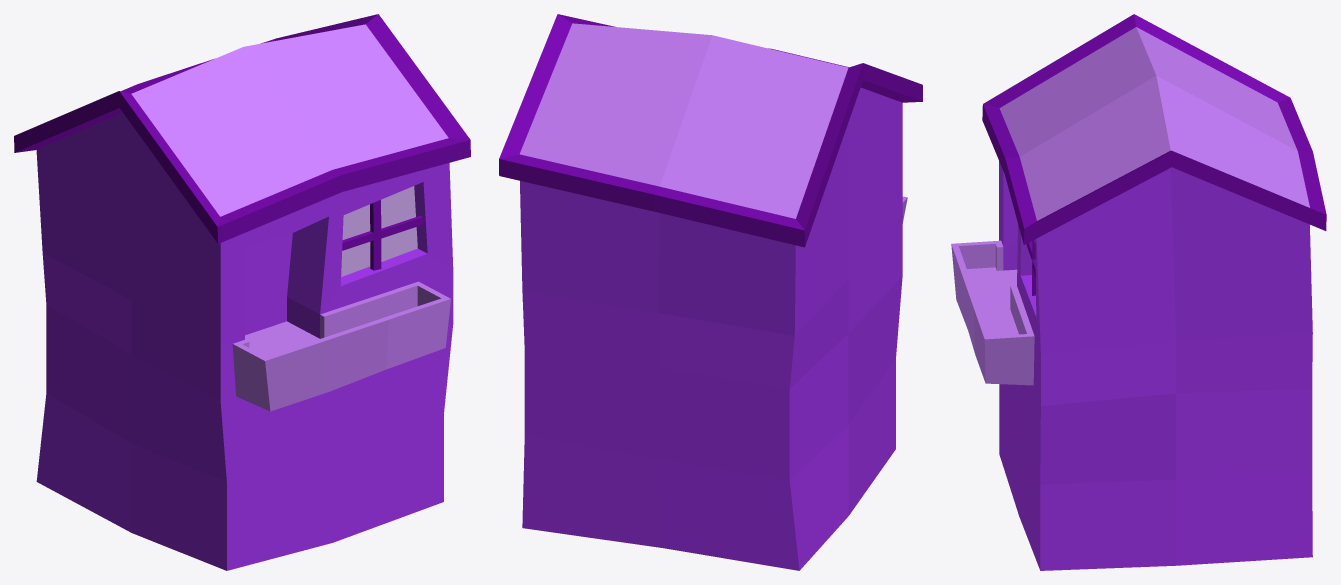
Rendered from edificio5.fbx.
3 views of the same model, side by side, from view 1: azimuth 30°, elevation 25°; view 2: azimuth 150°, elevation 25°; view 3: azimuth 270°, elevation 25° (orthographic). The views are drawn at different scales.
Visible parts, largest first — view 1: edificio5; view 2: edificio5; view 3: edificio5.
Part boxes in pixels (box(x1,y1,x2,y2)): edificio5: box(14, 14, 470, 570); edificio5: box(499, 14, 922, 570); edificio5: box(951, 14, 1326, 570).
Bounding box in the file's own units: 3747 × 5039 × 3965.
